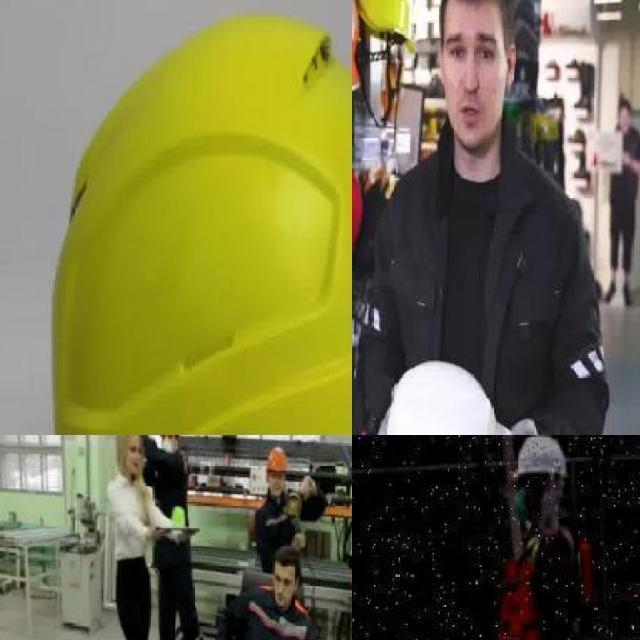apron: (534, 466, 568, 540)
